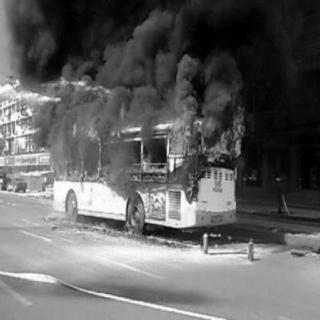Fire: (42, 95, 244, 181)
Smoke: (10, 3, 291, 90)
